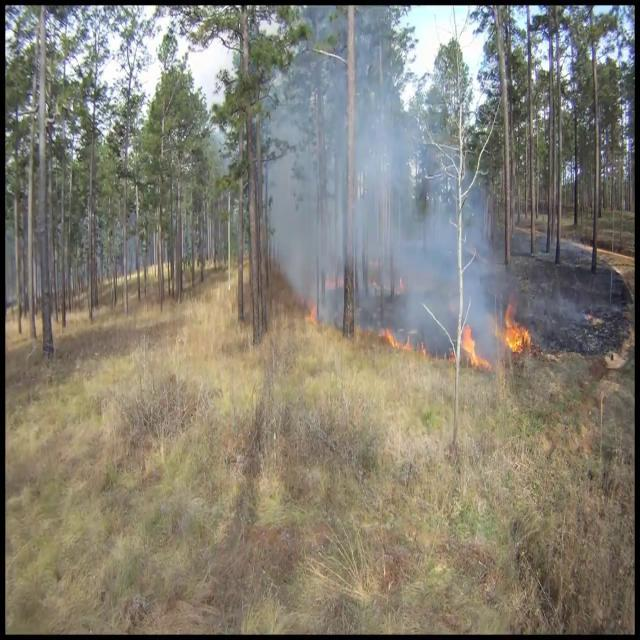Fire: (498, 296, 534, 359), (459, 318, 481, 370)
Smoke: (268, 19, 493, 345)
